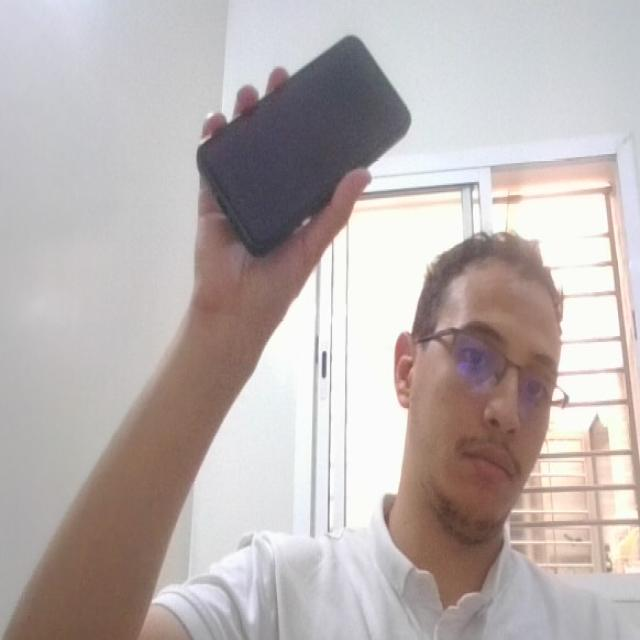phone: (183, 31, 420, 265)
